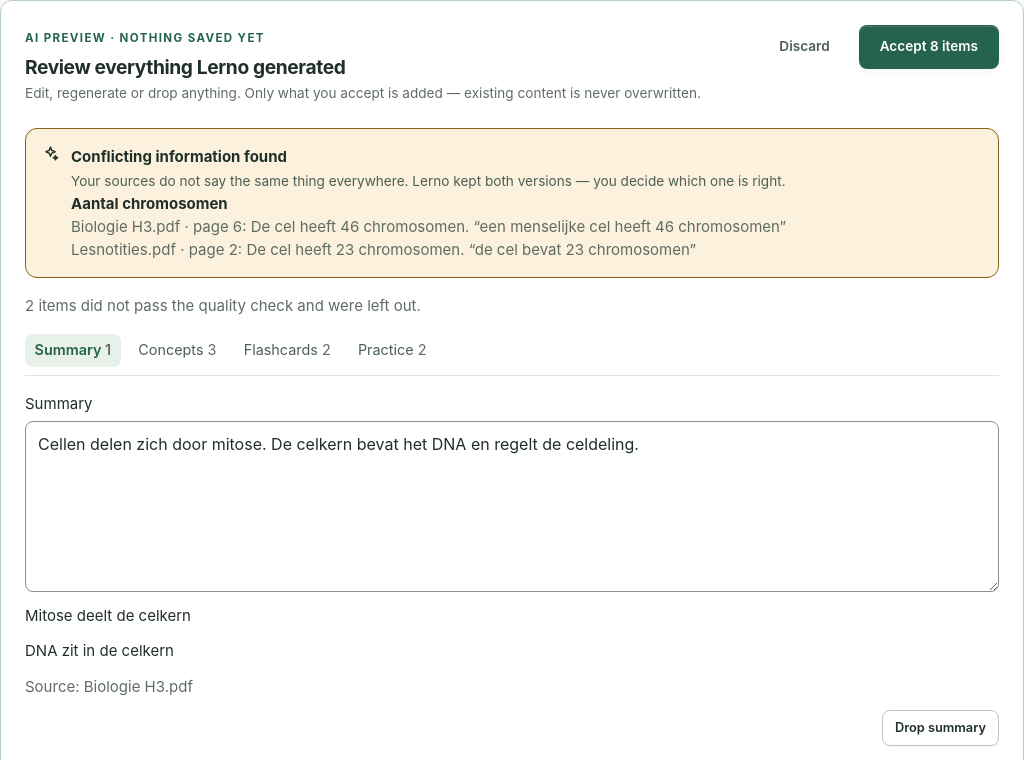
ContentReview › switches between tabs and shows the items of each kind
The image size is (1024, 760).
Click the tab "Concepts 3": click(177, 350) [129, 334, 226, 367]
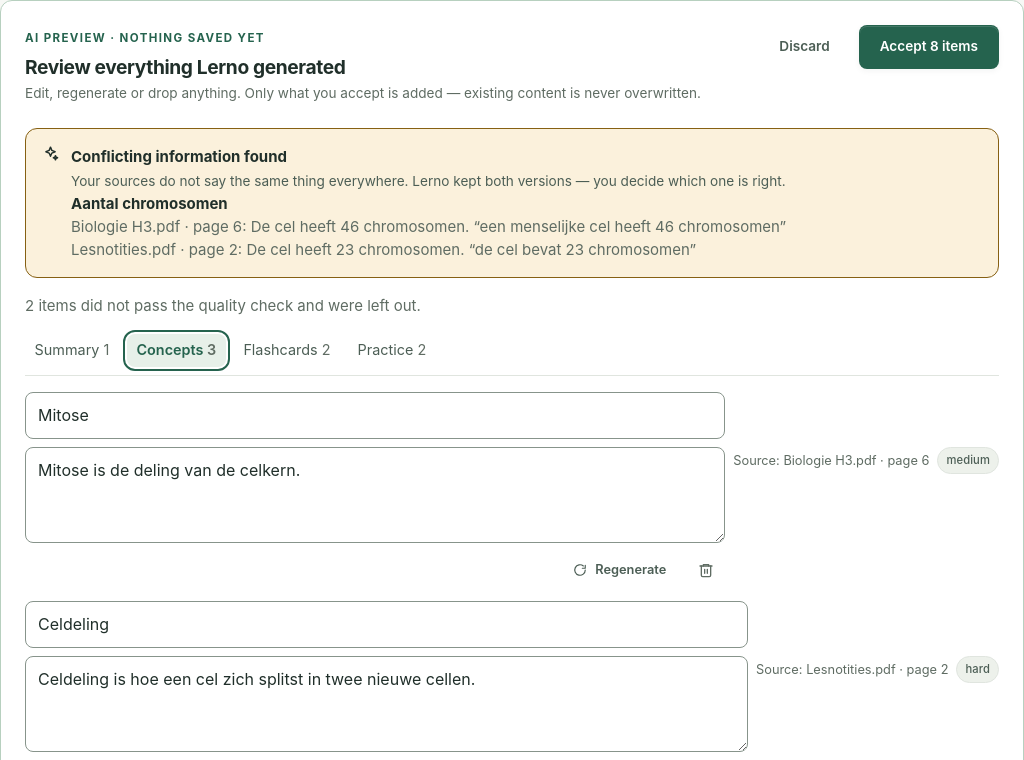
Check: the field named "Concept 1 name" holds "Mitose", box [25, 392, 725, 439]
Click the tab "Flashcards 2": click(287, 350) [234, 334, 340, 367]
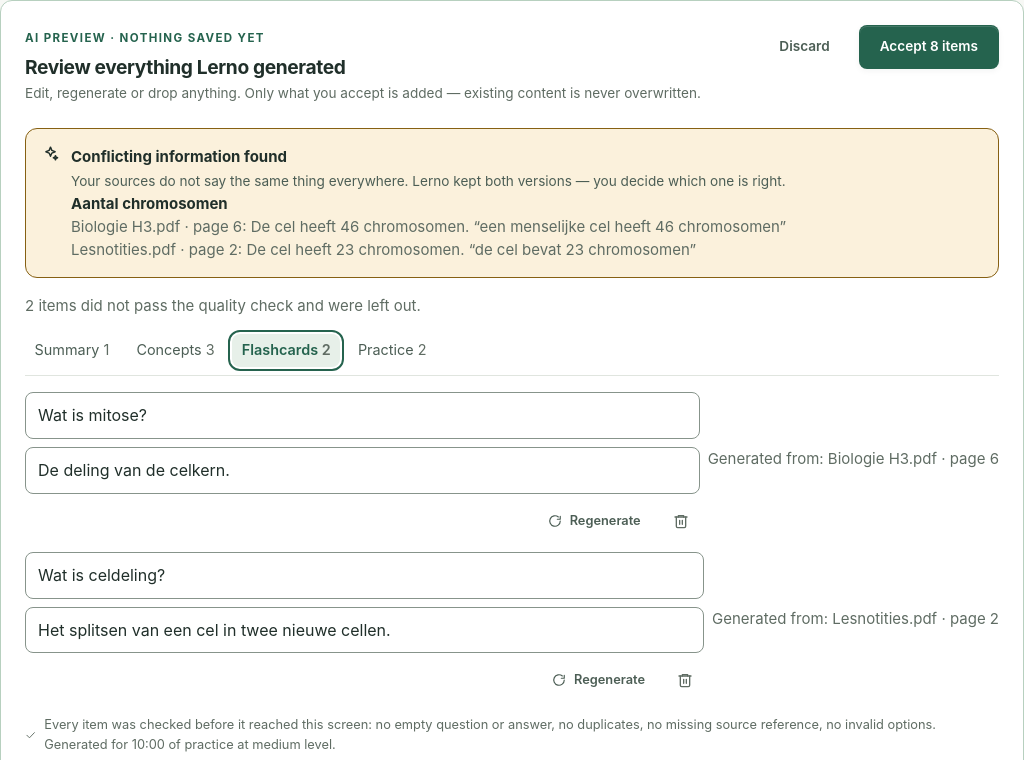
Check: the field named "Flashcard 1 front" holds "Wat is mitose?", box [25, 392, 700, 439]
Check: the field named "Flashcard 1 back" holds "De deling van de celkern.", box [25, 447, 700, 494]
Click the tab "Practice 2": click(392, 350) [348, 334, 436, 367]
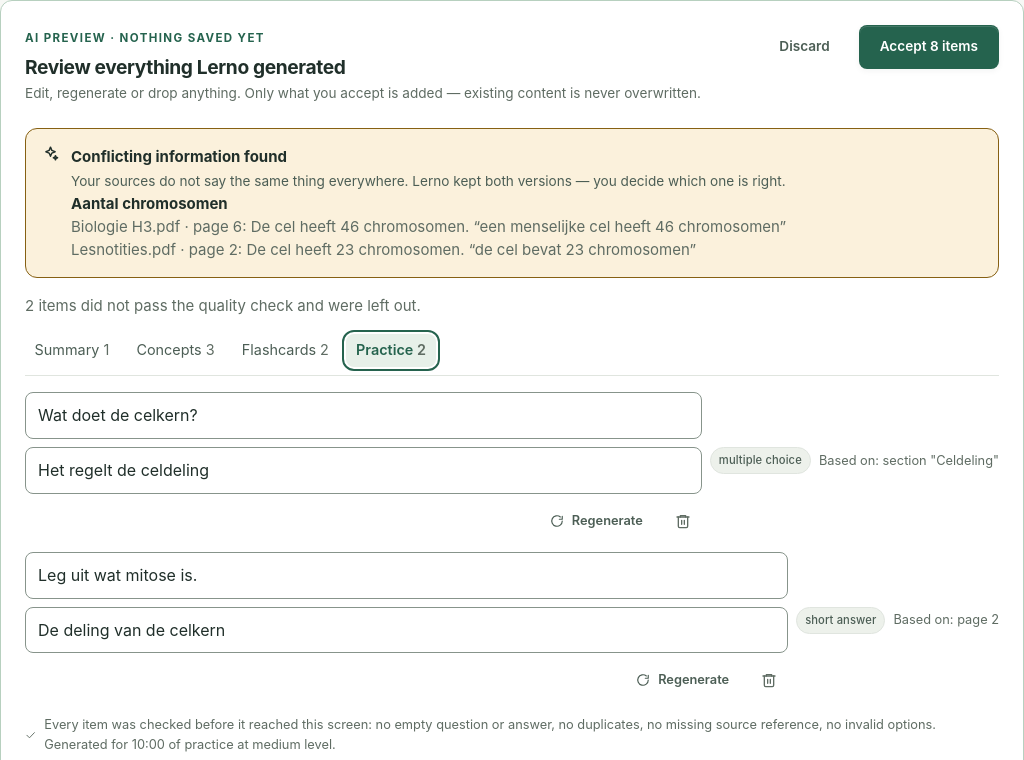
Check: the field named "Question 1 prompt" holds "Wat doet de celkern?", box [25, 392, 702, 439]
Check: the field named "Question 2 answer" holds "De deling van de celkern", box [25, 607, 788, 653]
